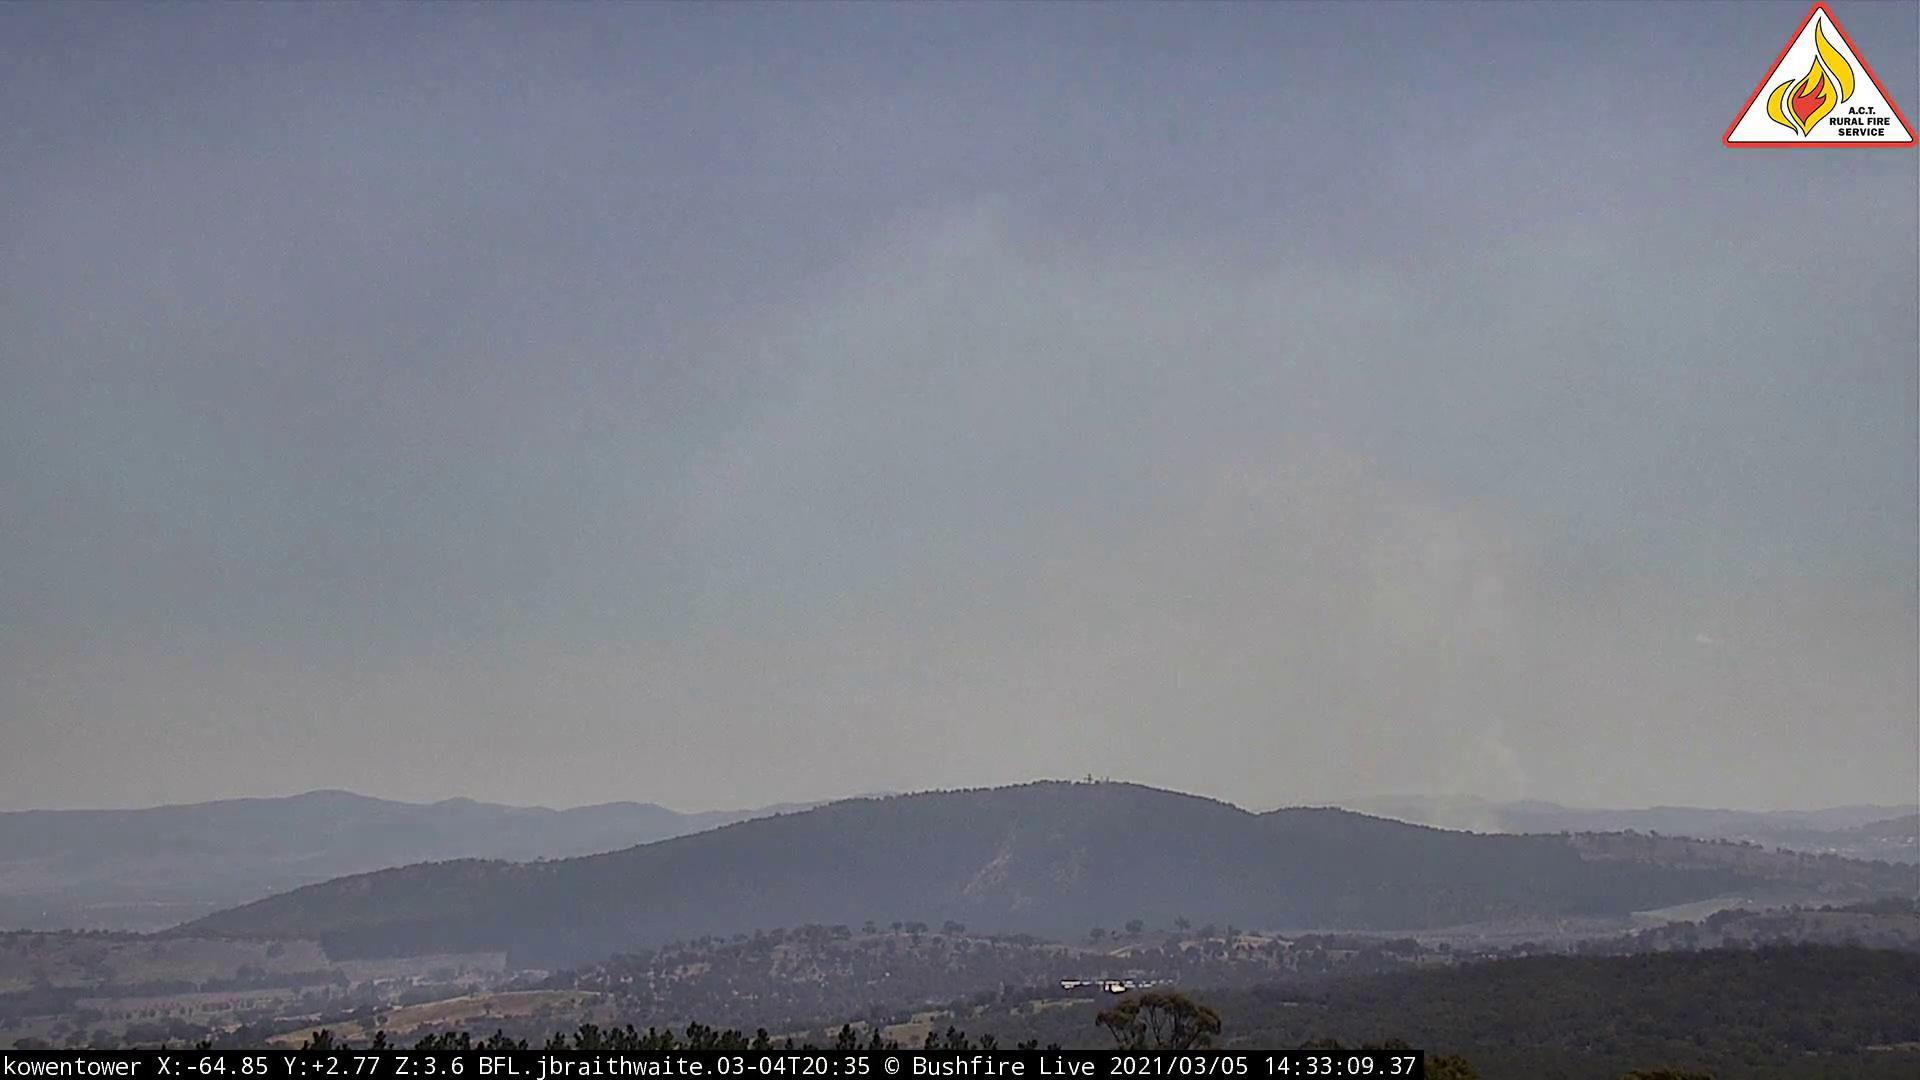Smoke: (1097, 404, 1552, 843)
